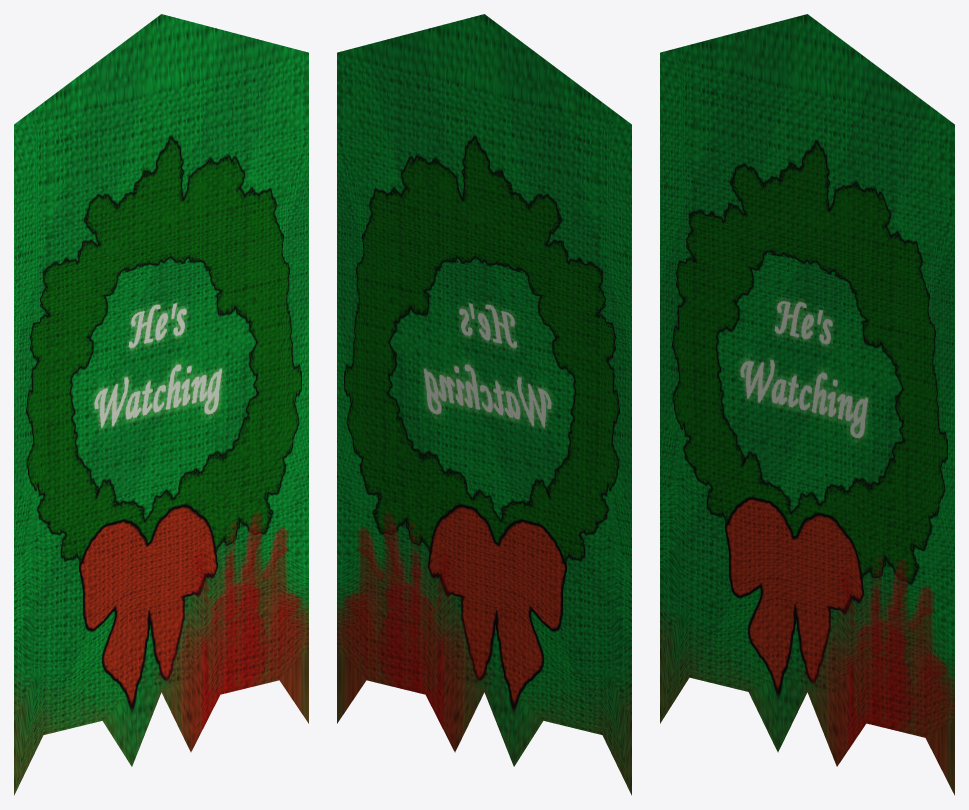
File: elf_banner_greenWreath_ver2.fbx
The picture shows the model from 3 angles, left to right: view 1: azimuth 30°, elevation 25°; view 2: azimuth 150°, elevation 25°; view 3: azimuth 330°, elevation 25°; orthographic projection.
Parts seen in each view (by area): view 1: Work_Banner; view 2: Work_Banner; view 3: Work_Banner.
Part boxes in pixels (left/top/right/bottom): Work_Banner: left=14, top=14, right=308, bottom=795; Work_Banner: left=337, top=14, right=631, bottom=795; Work_Banner: left=660, top=14, right=954, bottom=795.
Size of the model in its own units: 8.27 by 20 by 7.11e-15.
